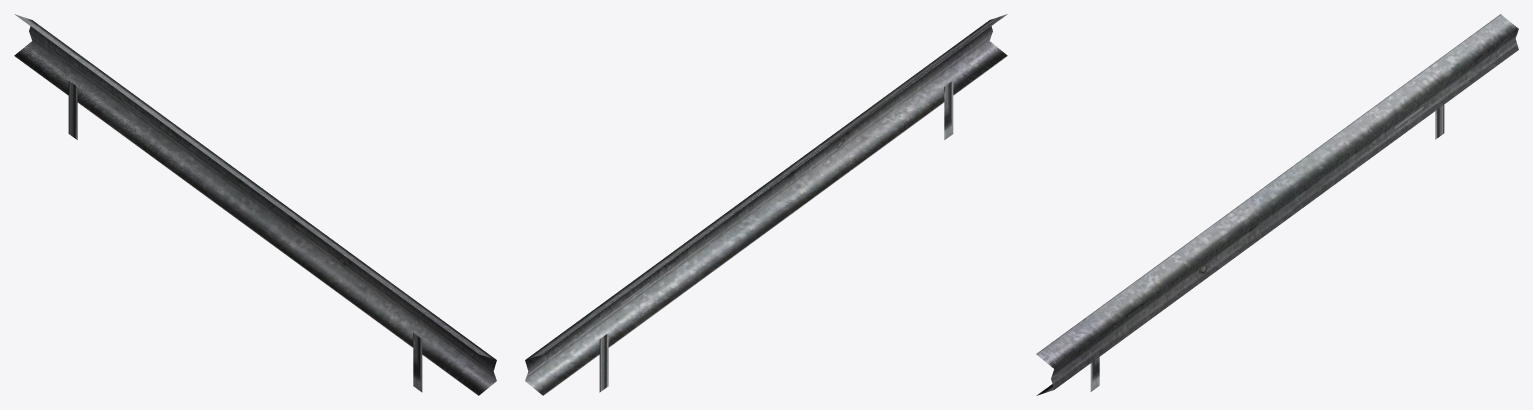
File: fence.fbx
The picture shows the model from 3 angles, left to right: view 1: azimuth 30°, elevation 25°; view 2: azimuth 150°, elevation 25°; view 3: azimuth 330°, elevation 25°; orthographic projection.
Visible parts, largest first — view 1: sub_roadright_l0.075; view 2: sub_roadright_l0.075; view 3: sub_roadright_l0.075.
Part boxes in pixels (x1=…): sub_roadright_l0.075: x1=14, y1=14, x2=496, y2=395; sub_roadright_l0.075: x1=525, y1=14, x2=1007, y2=395; sub_roadright_l0.075: x1=1036, y1=14, x2=1518, y2=395.
Bounding box in the file's own units: 22.38 × 88.01 × 939.
